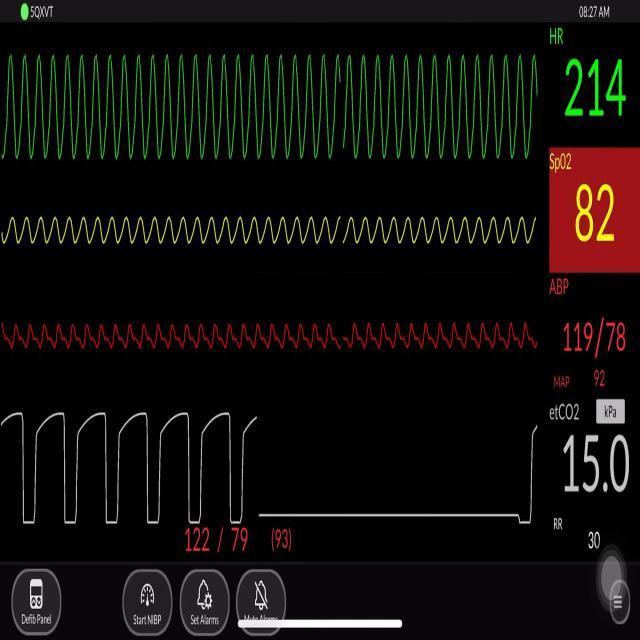danger: (9, 47, 542, 176)
